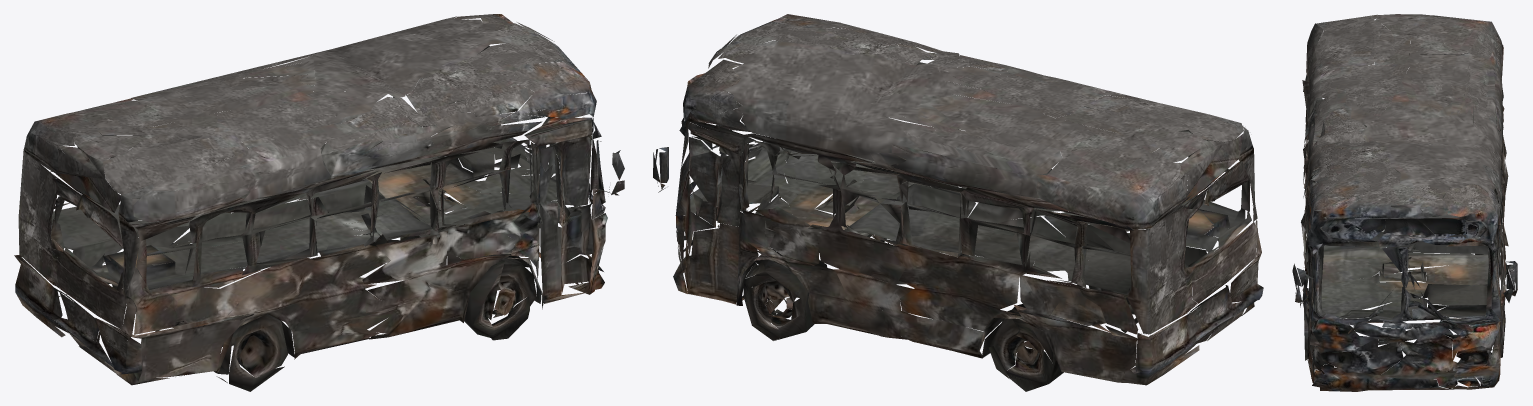
Rendered from burnt_bus.glb.
The picture shows the model from 3 angles, left to right: view 1: azimuth 30°, elevation 25°; view 2: azimuth 150°, elevation 25°; view 3: azimuth 270°, elevation 25°; orthographic projection. The views are drawn at different scales.
Parts seen in each view (by area): view 1: tripo_node_eea7c540-0c4c-4ae0-b79d-fcb7da49d9b8; view 2: tripo_node_eea7c540-0c4c-4ae0-b79d-fcb7da49d9b8; view 3: tripo_node_eea7c540-0c4c-4ae0-b79d-fcb7da49d9b8.
Part boxes in pixels (left/top/right/bottom): tripo_node_eea7c540-0c4c-4ae0-b79d-fcb7da49d9b8: left=14, top=14, right=624, bottom=391; tripo_node_eea7c540-0c4c-4ae0-b79d-fcb7da49d9b8: left=653, top=14, right=1263, bottom=391; tripo_node_eea7c540-0c4c-4ae0-b79d-fcb7da49d9b8: left=1292, top=14, right=1517, bottom=391.
Size of the model in its own units: 6.79 by 3.23 by 3.14.
Materials: 1 (1 with a texture image).
